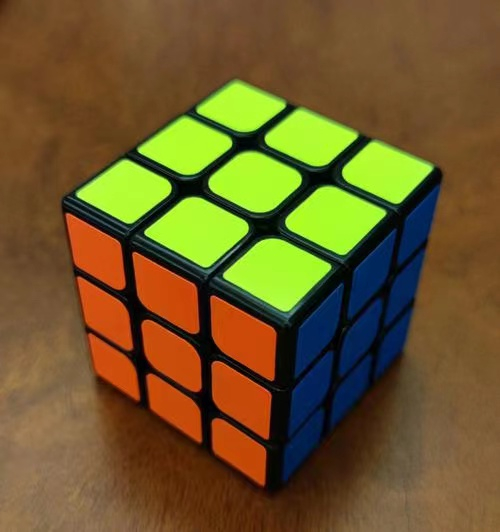cube: (60, 75, 446, 496)
